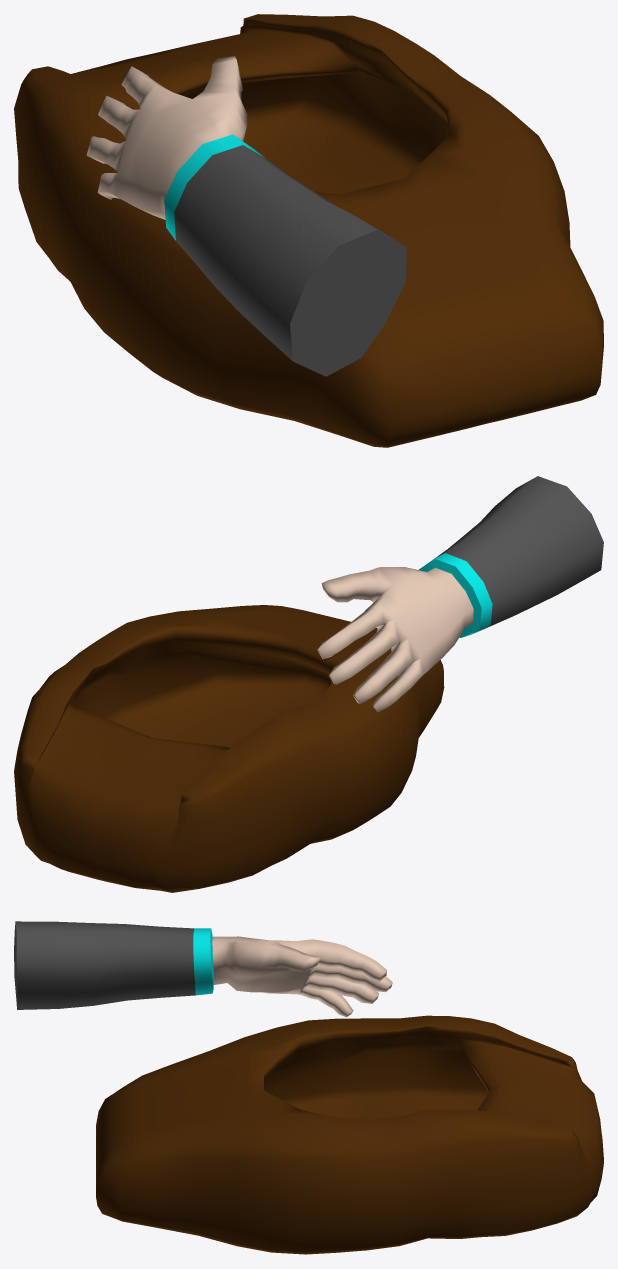
Rendered from Iteams Bag.fbx.
The picture shows the model from 3 angles, top to bottom: view 1: azimuth 30°, elevation 25°; view 2: azimuth 150°, elevation 25°; view 3: azimuth 270°, elevation 25°; orthographic projection. The views are drawn at different scales.
Parts seen in each view (by area): view 1: polySurface4, hand_basemesh; view 2: polySurface4, hand_basemesh; view 3: polySurface4, hand_basemesh.
Boxes of the visible parts, box(x1,y1,x2,y2) form: polySurface4: box(14, 14, 603, 447); hand_basemesh: box(87, 56, 406, 376); polySurface4: box(14, 605, 444, 892); hand_basemesh: box(317, 476, 603, 712); polySurface4: box(96, 1015, 603, 1254); hand_basemesh: box(14, 921, 392, 1017).
Bounding box in the file's own units: 10.4 × 6.45 × 16.33.
